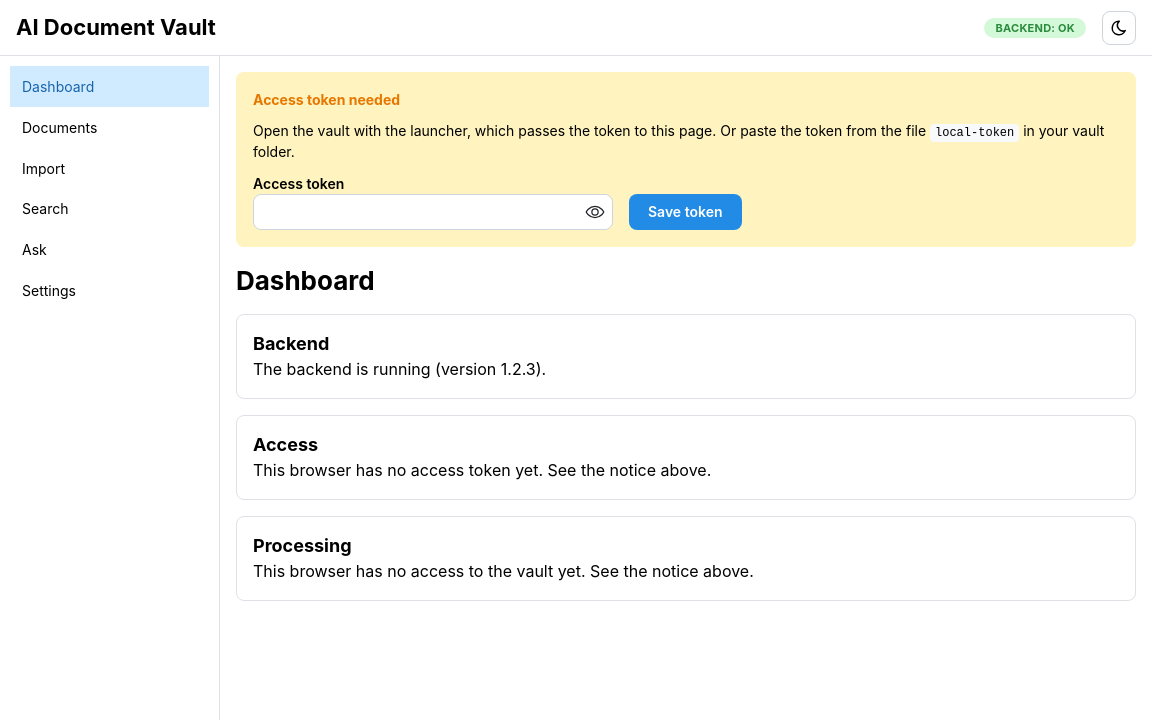
Test: navigation › opens the Ask placeholder
Click the link "Ask" at (34, 250), box [22, 241, 47, 258]
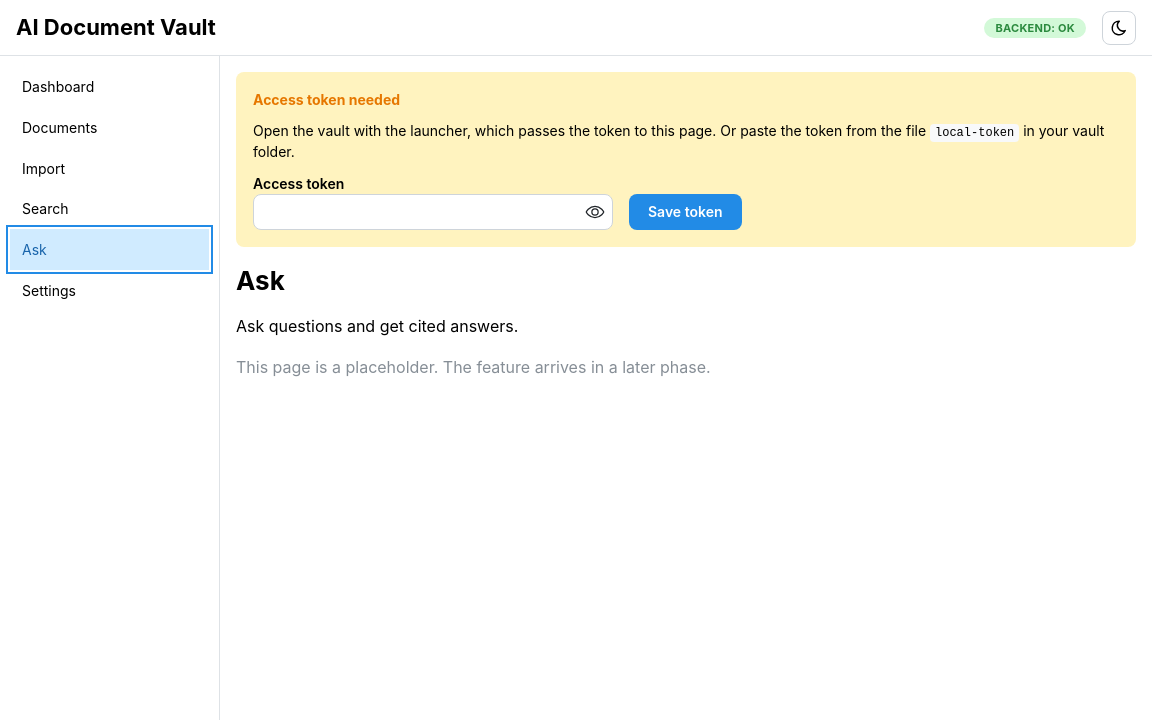
Expected: the heading "Ask" is shown, [236, 265, 285, 296]
Expected: the text "Ask questions and get cited answers." is shown, [236, 316, 518, 336]
